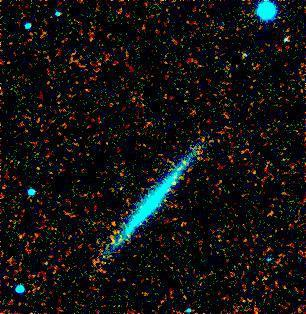star: (100, 211, 130, 241)
